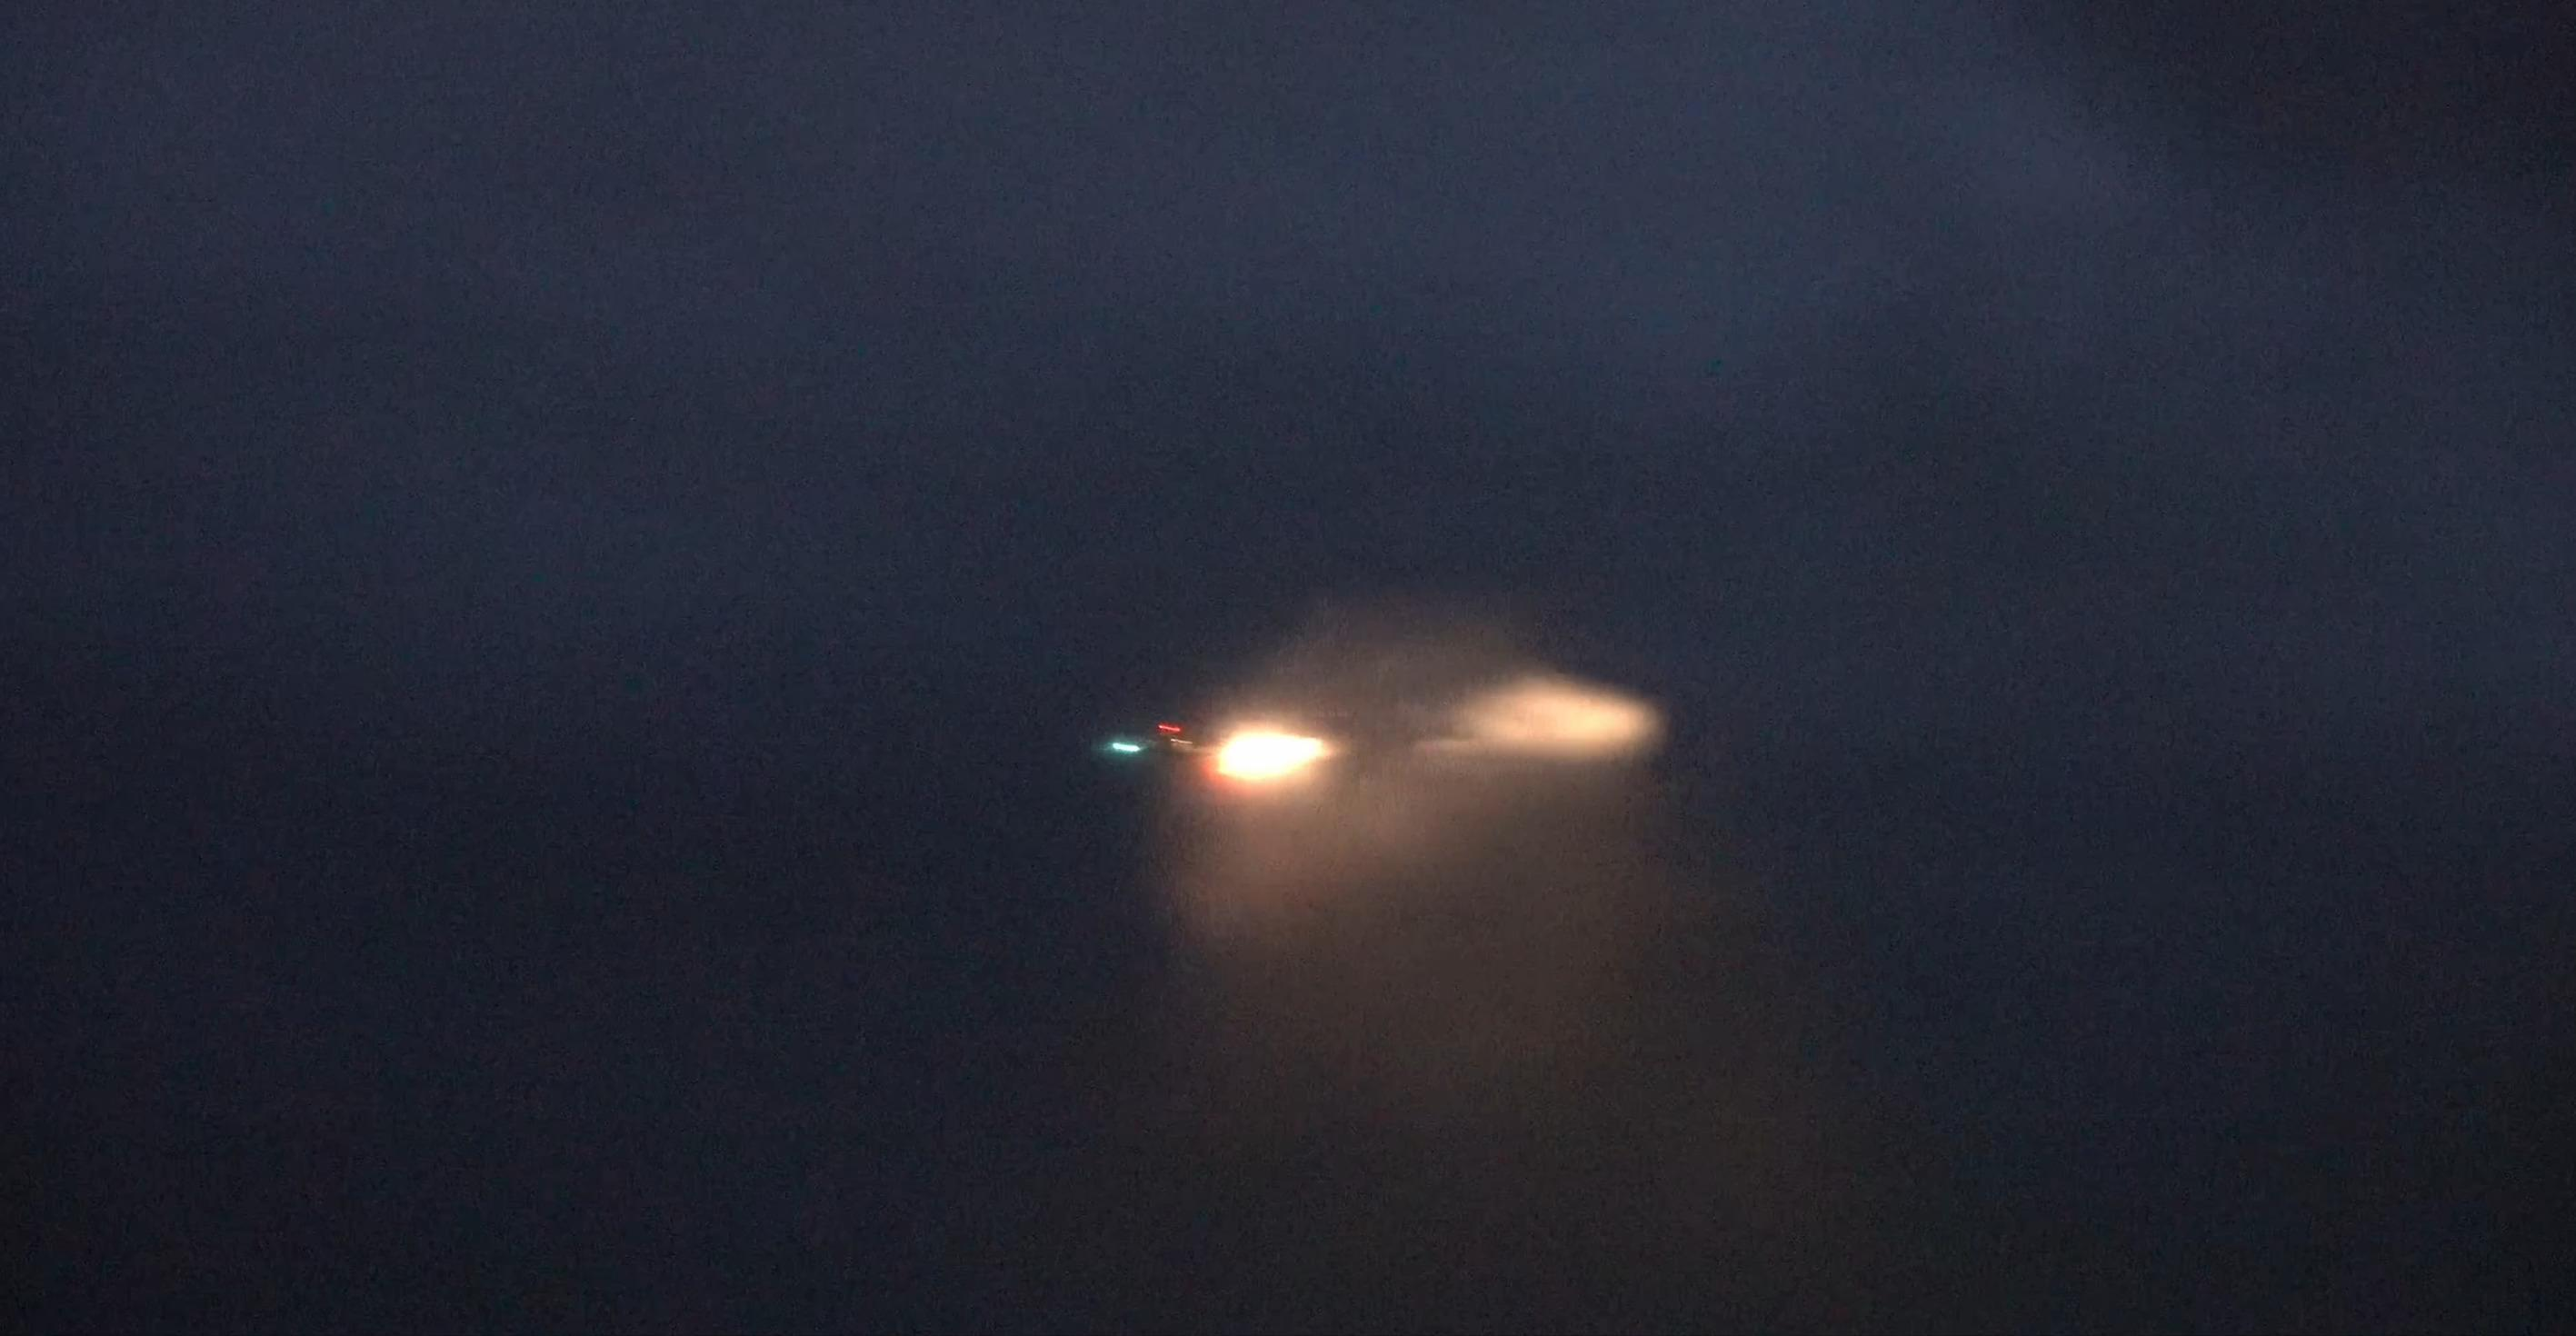Plane: (1075, 687, 1377, 803)
